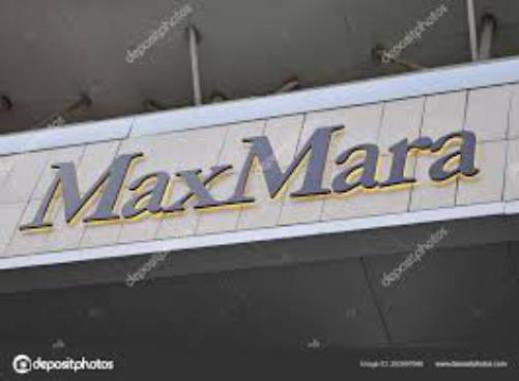MAX-MARA: (15, 117, 483, 231)
